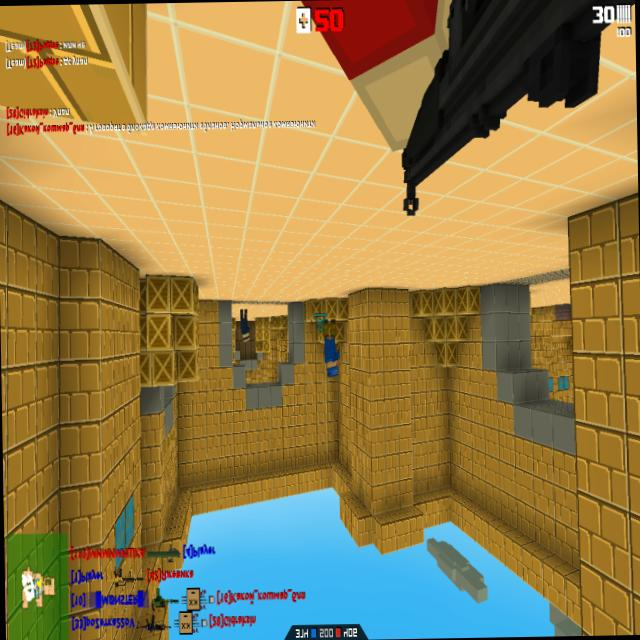enemy: (322, 319, 340, 378), (239, 308, 250, 343)
